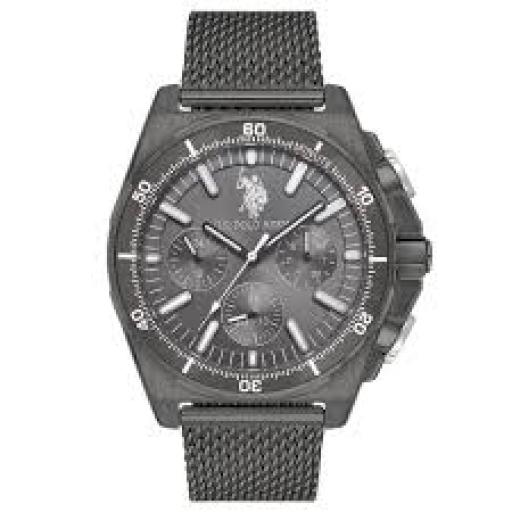KolSaati: (88, 0, 436, 507)
